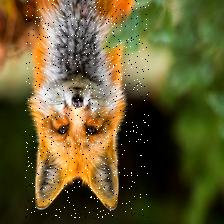fox: (25, 0, 149, 219)
